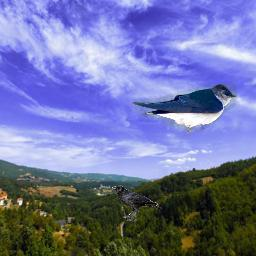Crow: (112, 185, 162, 221)
Swallow: (132, 84, 237, 136)
